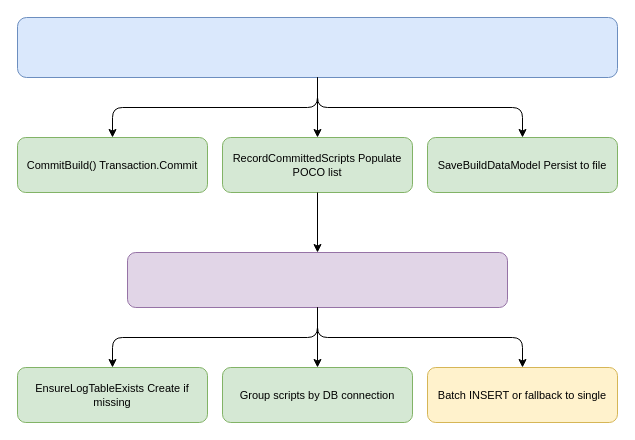
Some shapes in this 635 by 440 pixel diagram are drawn without their labels. The centre of each missing label's shape, as x and y in pixels:
DefaultBuildFinalizer PerformRunScriptFinalizationAsync(): (x=317, y=47)
DefaultSqlLoggingService LogCommittedScriptsToDatabase(): (x=317, y=280)
